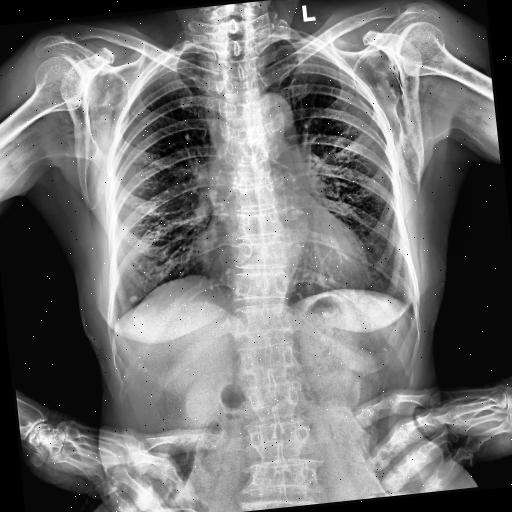0- Aortic enlargement: (241, 89, 299, 151), (244, 92, 296, 149), (250, 90, 298, 148)
2- Calcification: (128, 294, 138, 304)
3- Cardiomegaly: (196, 225, 380, 323), (192, 214, 376, 306)
8- Nodule-Mass: (127, 294, 139, 304), (128, 296, 138, 303)
9- Other lesion: (128, 296, 138, 303)
